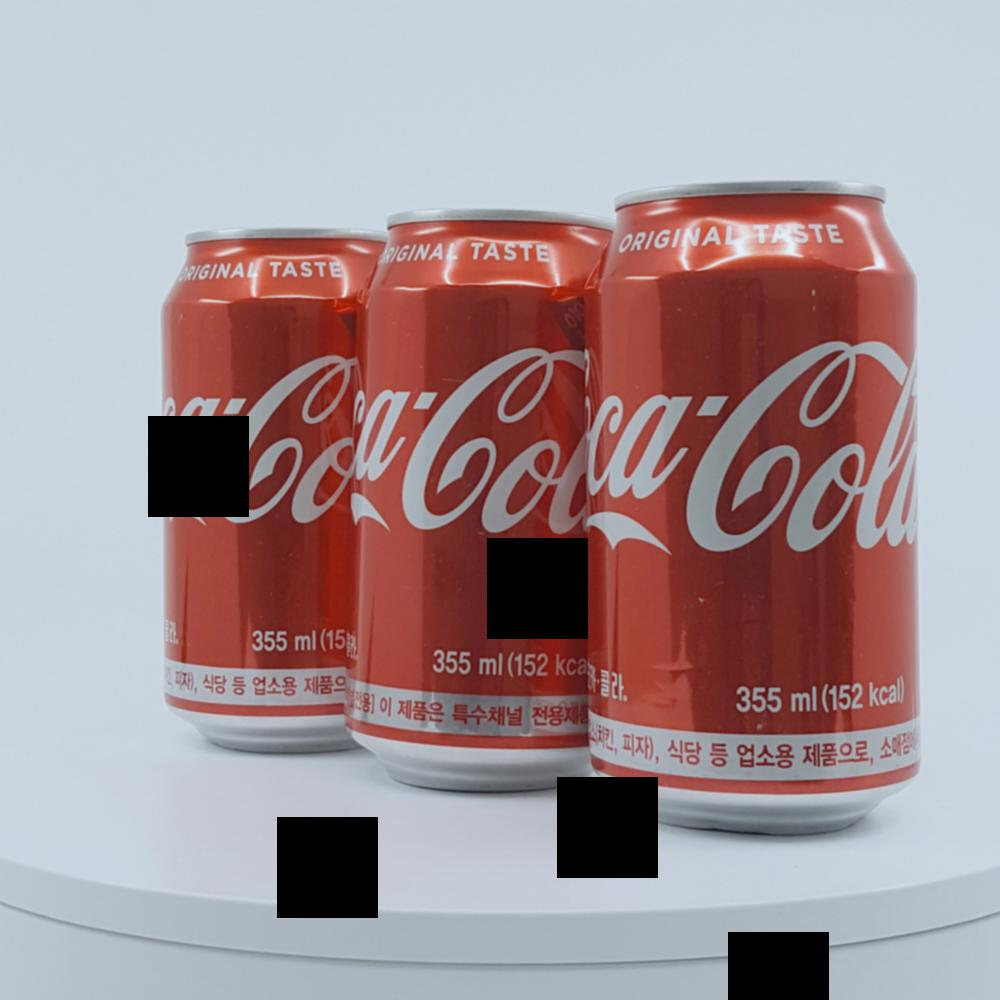cocacola: (588, 173, 931, 866), (343, 188, 614, 816)
